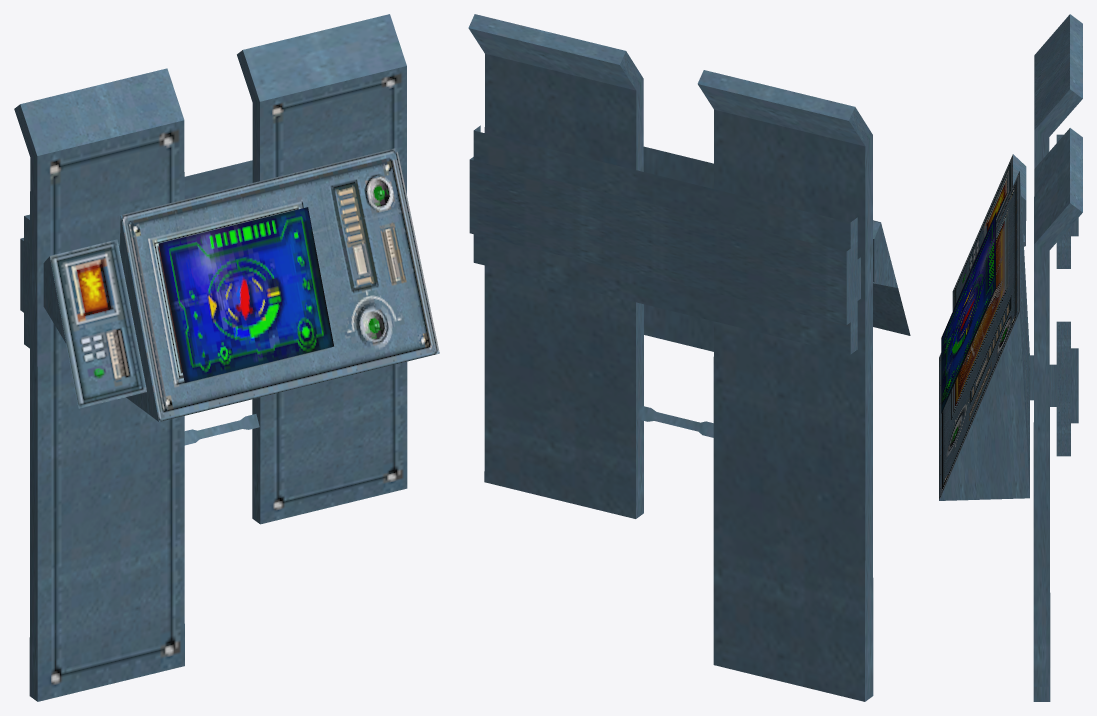
Rendered from frn_all_data_terminal_free_s2_l1.fbx.
The picture shows the model from 3 angles, left to right: view 1: azimuth 30°, elevation 25°; view 2: azimuth 150°, elevation 25°; view 3: azimuth 270°, elevation 25°; orthographic projection. The views are drawn at different scales.
Parts seen in each view (by area): view 1: mesh_node; view 2: mesh_node; view 3: mesh_node.
Boxes of the visible parts, <box> form: mesh_node: <box>14,14,439,701</box>; mesh_node: <box>468,14,910,701</box>; mesh_node: <box>939,14,1082,701</box>.
Size of the model in its own units: 1.23 by 1.85 by 0.3946.
Materials: 2 (2 with a texture image).
